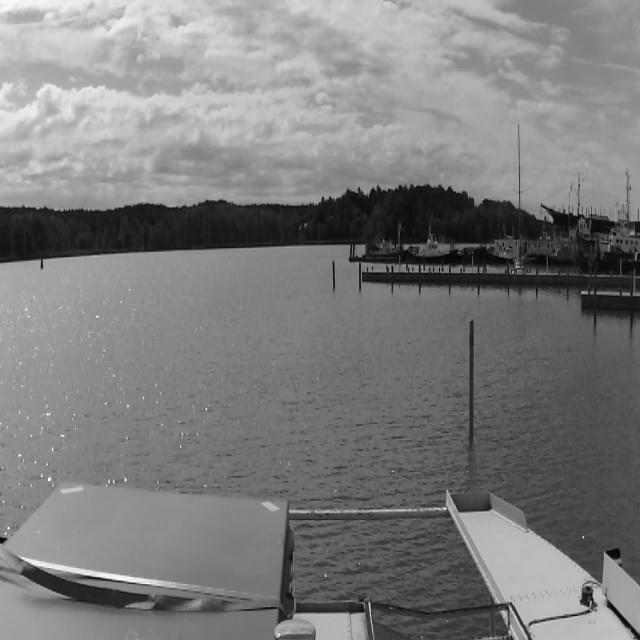buoy: (468, 318, 474, 442), (40, 257, 44, 268)
ship: (511, 123, 527, 274)
